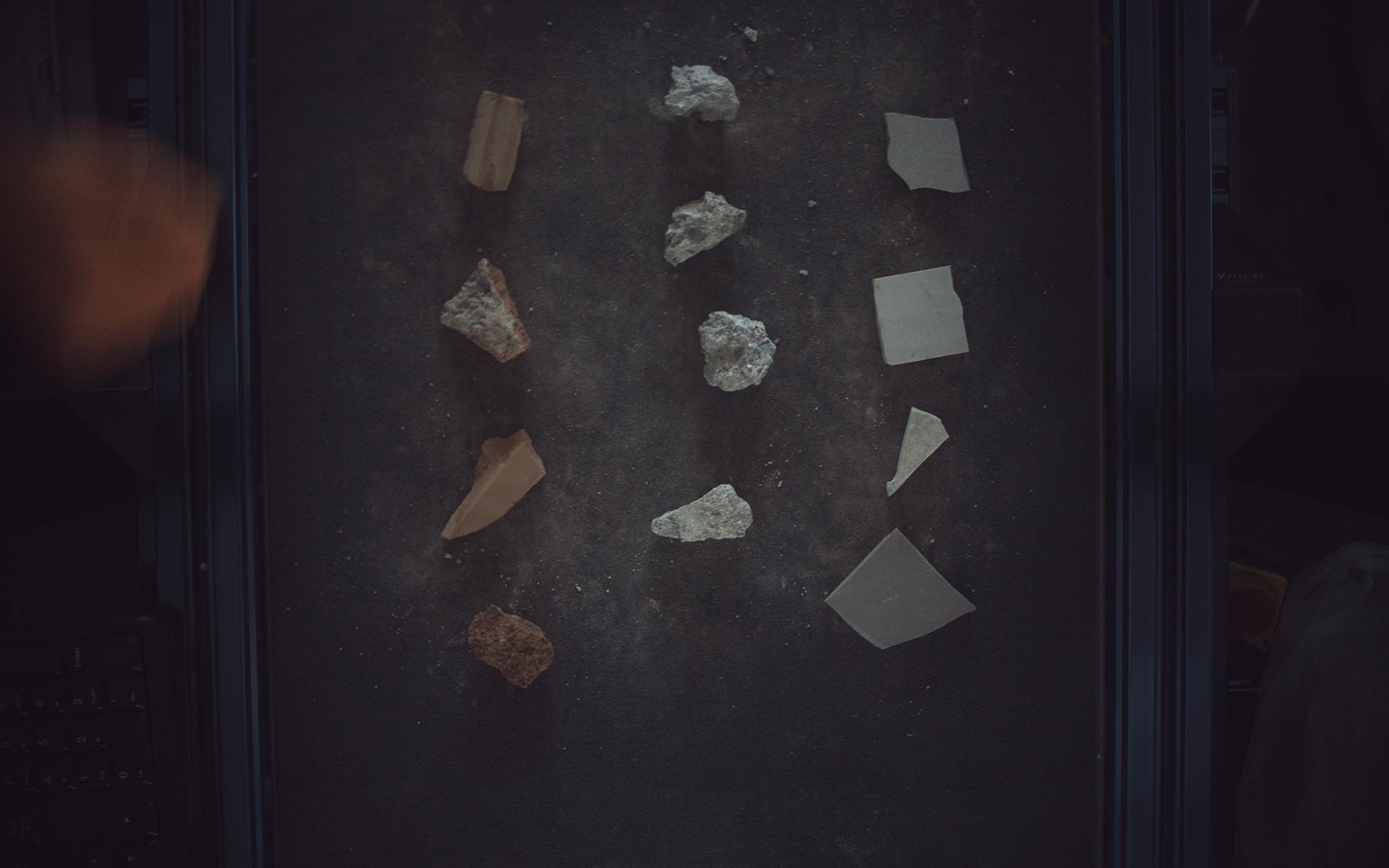brick: (441, 430, 545, 540), (441, 257, 530, 362), (469, 605, 554, 689), (463, 90, 524, 191)
concrete: (700, 311, 777, 391), (666, 190, 747, 265), (652, 485, 753, 542), (664, 64, 740, 120)
tile: (827, 529, 977, 650), (875, 265, 971, 365), (886, 112, 972, 192), (888, 407, 951, 495)
